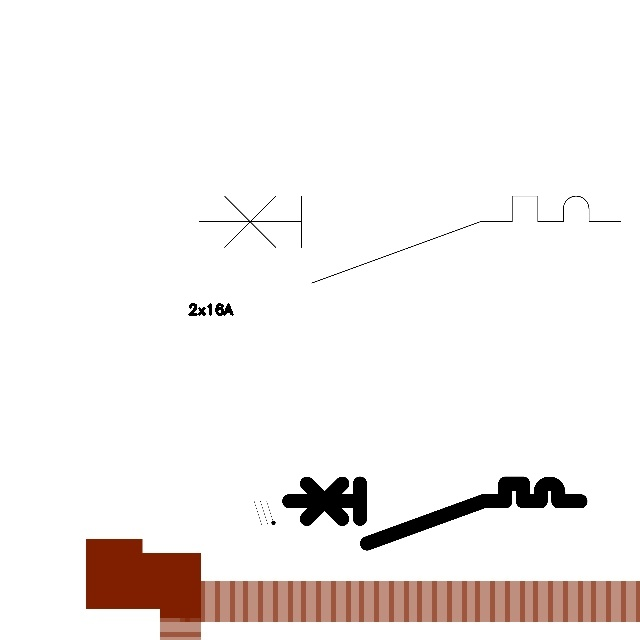interruptor_termomagnetico: (188, 185, 632, 294), (281, 476, 587, 551)
